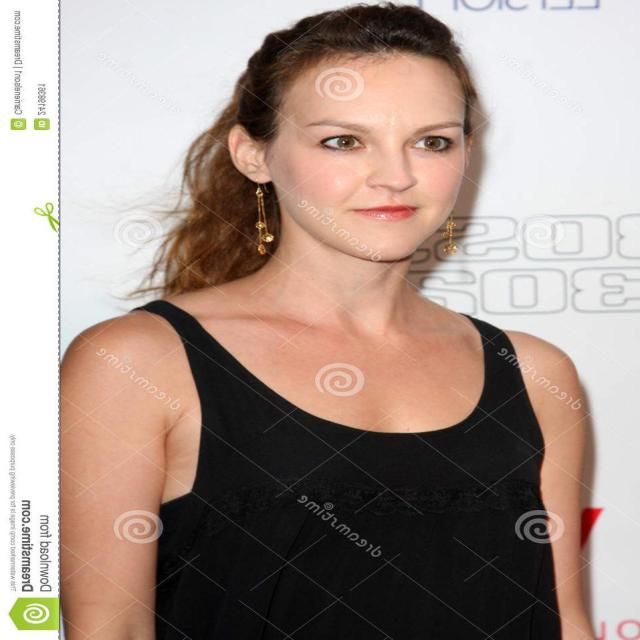no-earmuff: (214, 105, 294, 195)
